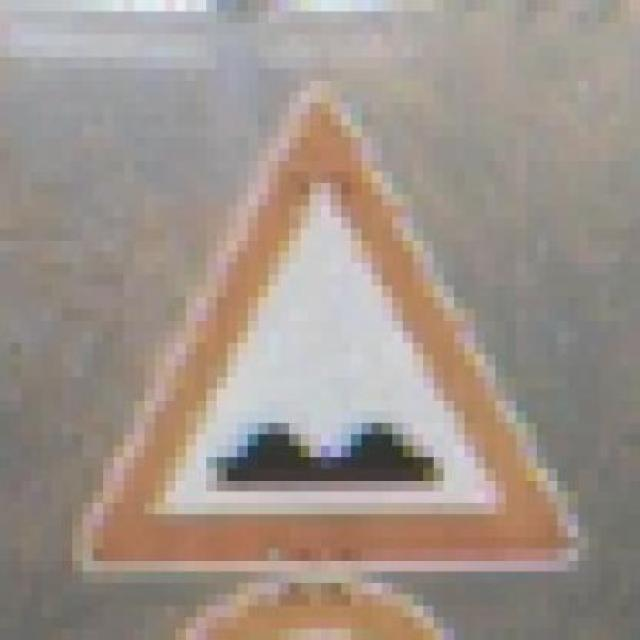Uneven Road: (71, 69, 588, 572)
